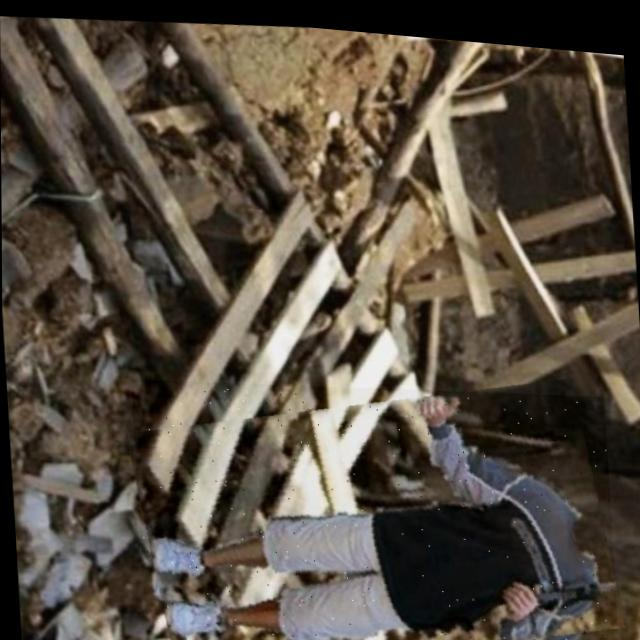Person in Rubble: (129, 352, 619, 640)
